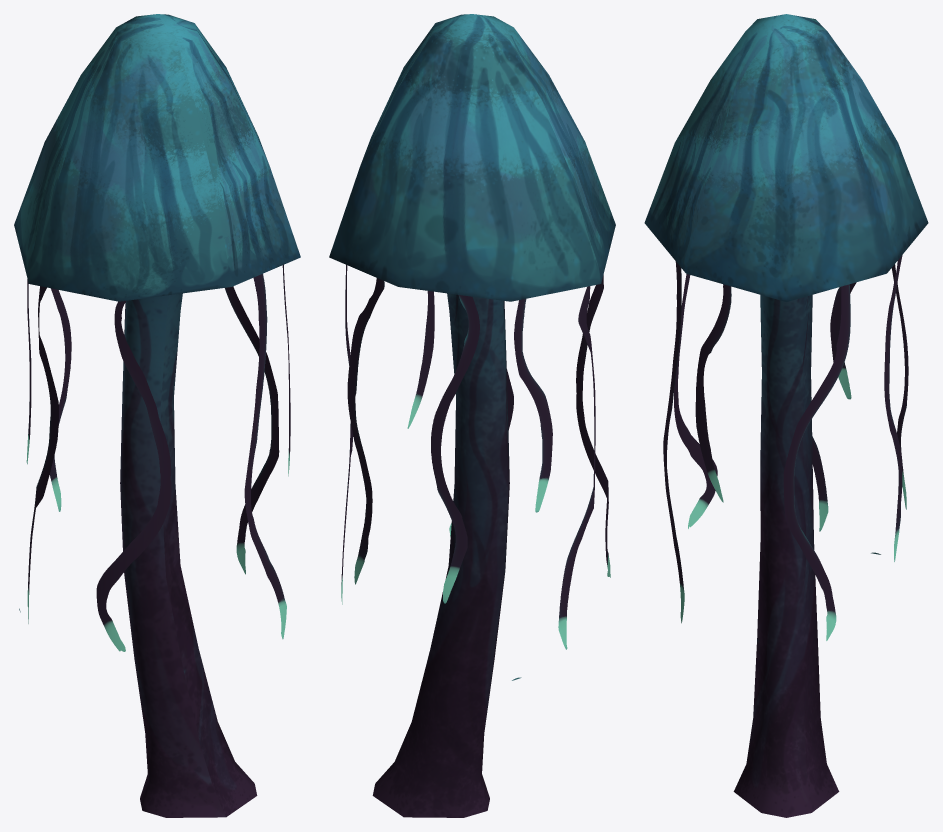
The model's file is shroom 2.fbx.
3 views of the same model, side by side, from view 1: azimuth 30°, elevation 25°; view 2: azimuth 150°, elevation 25°; view 3: azimuth 270°, elevation 25° (orthographic). The views are drawn at different scales.
Visible parts, largest first — view 1: shroom1; view 2: shroom1; view 3: shroom1.
Part boxes in pixels (bbox=[...]): shroom1: bbox=[14, 14, 300, 817]; shroom1: bbox=[329, 14, 615, 817]; shroom1: bbox=[644, 14, 928, 817].
Bounding box in the file's own units: 11.03 × 32.49 × 11.03.
